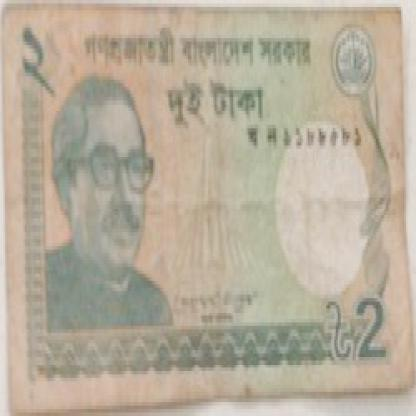two taka: (163, 80, 281, 135), (20, 14, 68, 100)
